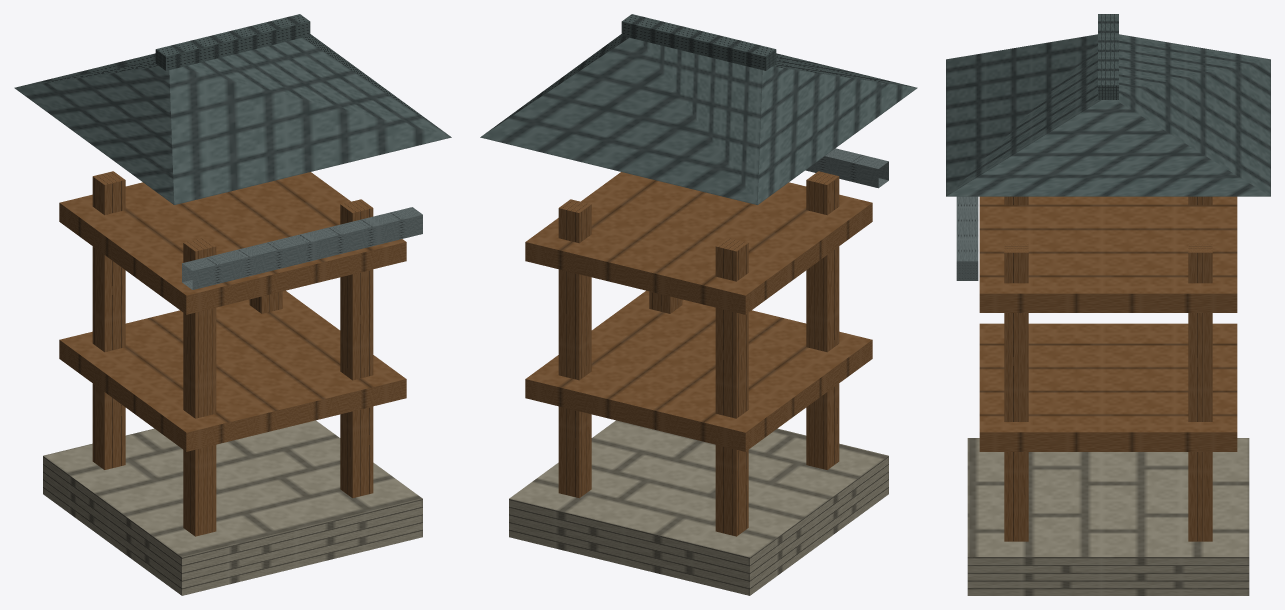
Rendered from military-ARROW_TOWER-1-lod2.glb.
3 renders of one model, left to right at view 1: azimuth 30°, elevation 25°; view 2: azimuth 150°, elevation 25°; view 3: azimuth 270°, elevation 25°, orthographic.
Size of the model in its own units: 0.53 by 0.876 by 0.53.
Materials: 1 (1 with a texture image).
